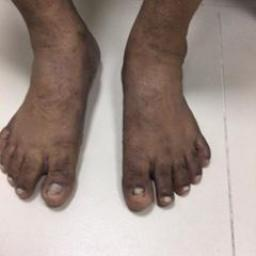Dorsal View -Both Feet-: (2, 13, 221, 220)
